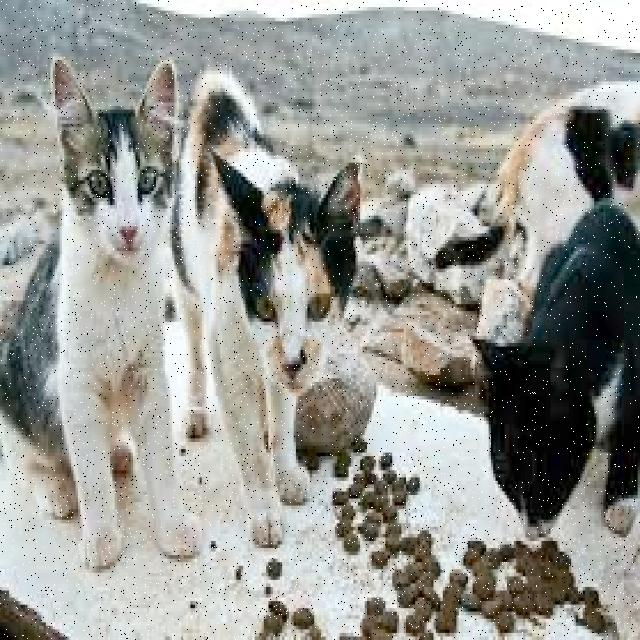cat: (0, 60, 200, 567), (170, 69, 360, 546), (476, 200, 640, 535), (435, 81, 640, 292)
